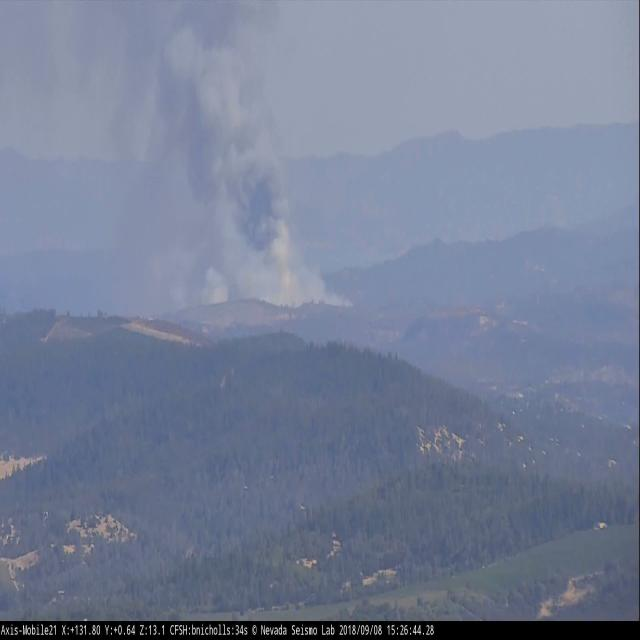smoke: (68, 0, 354, 307)
